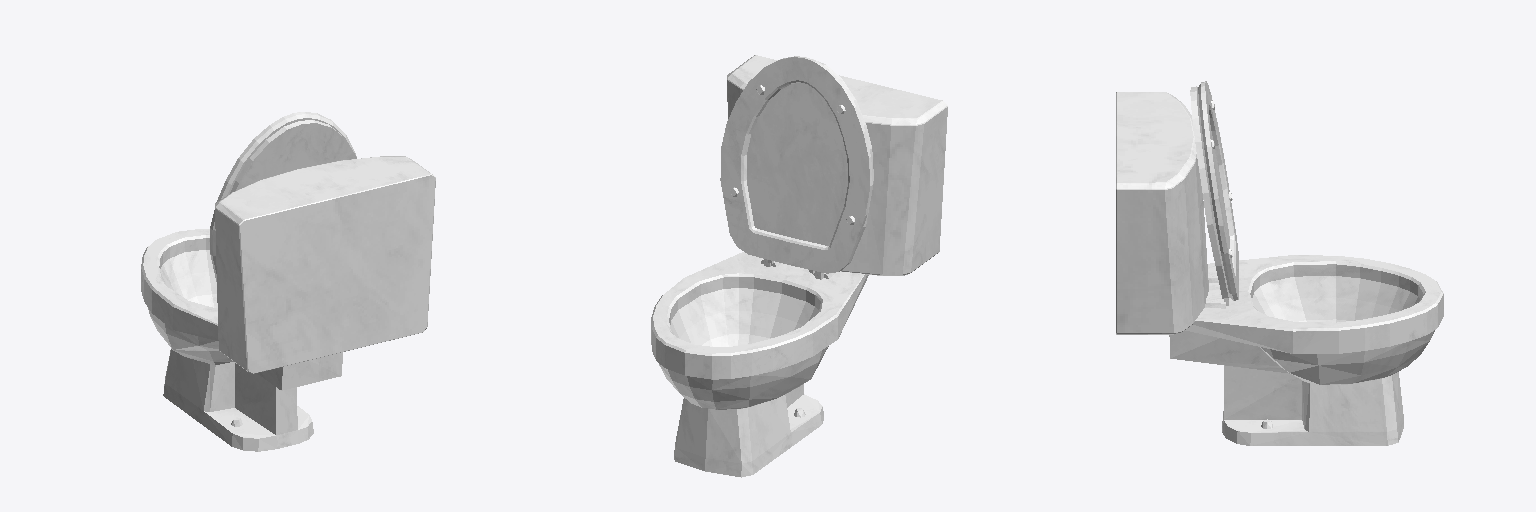
3 renders of one model, left to right at view 1: azimuth 30°, elevation 25°; view 2: azimuth 150°, elevation 25°; view 3: azimuth 270°, elevation 25°, orthographic.
Visible parts, largest first — view 1: mesh; view 2: mesh; view 3: mesh.
Part boxes in pixels (left/top/right/bottom): mesh: left=141, top=112, right=435, bottom=451; mesh: left=651, top=55, right=947, bottom=477; mesh: left=1116, top=81, right=1443, bottom=445.
Size of the model in its own units: 30.5 by 50.26 by 43.83.
Materials: 1 (1 with a texture image).